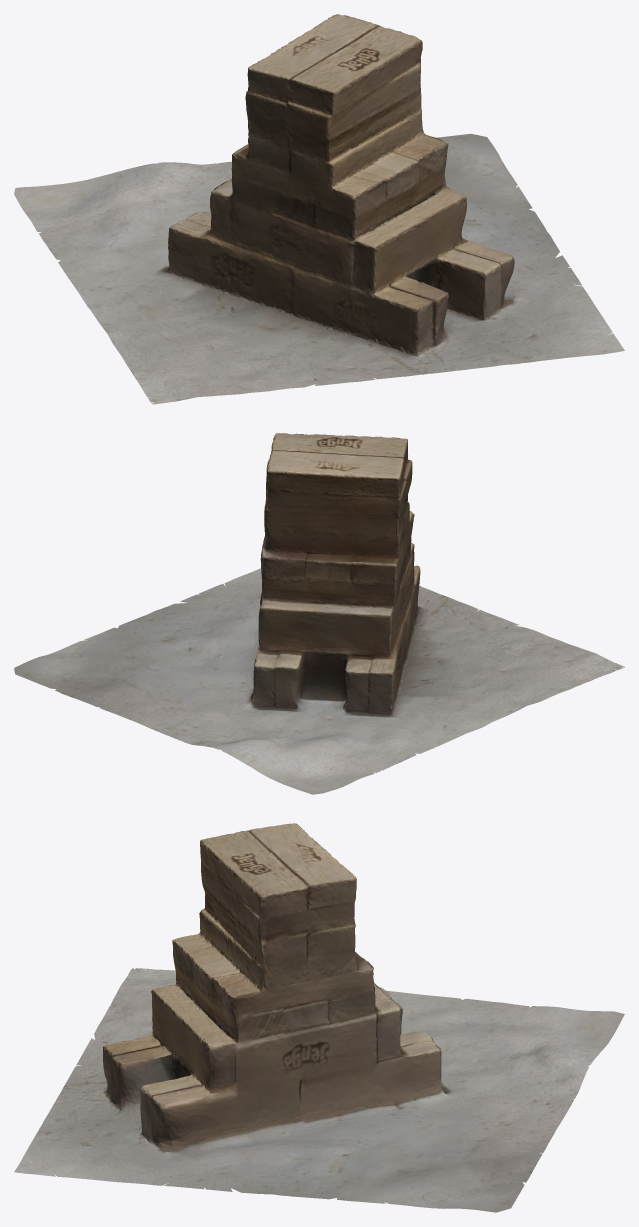
The model's file is stage2.glb.
3 views of the same model, one above another, from view 1: azimuth 30°, elevation 25°; view 2: azimuth 150°, elevation 25°; view 3: azimuth 270°, elevation 25° (orthographic). The views are drawn at different scales.
Size of the model in its own units: 1.04 by 0.465 by 1.07.
Materials: 1 (1 with a texture image).
